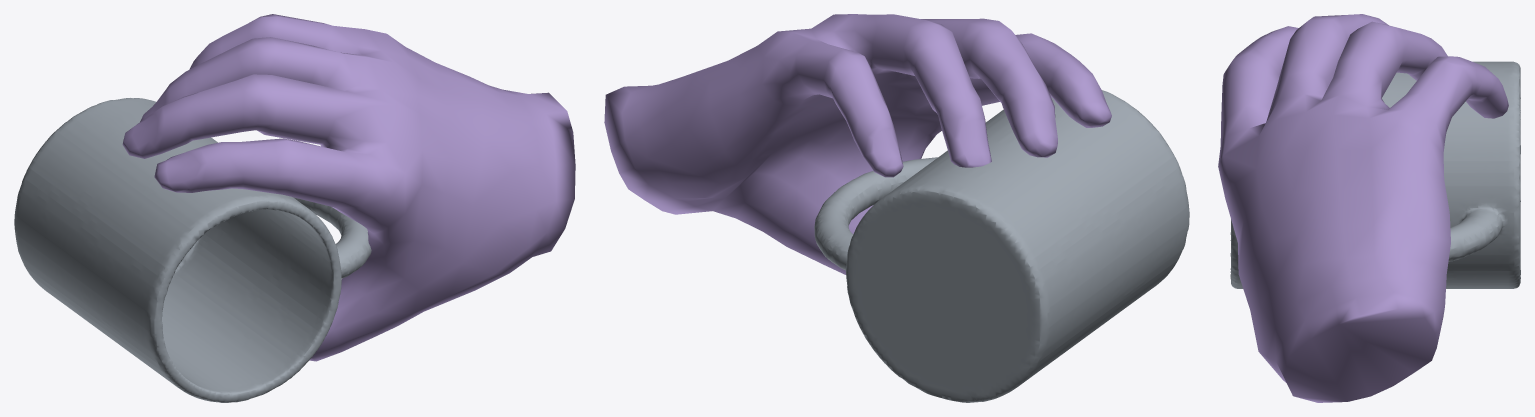
The model's file is ours_1.glb.
3 views of the same model, side by side, from view 1: azimuth 30°, elevation 25°; view 2: azimuth 150°, elevation 25°; view 3: azimuth 270°, elevation 25° (orthographic). The views are drawn at different scales.
Bounding box in the file's own units: 0.205 × 0.1264 × 0.1094.
